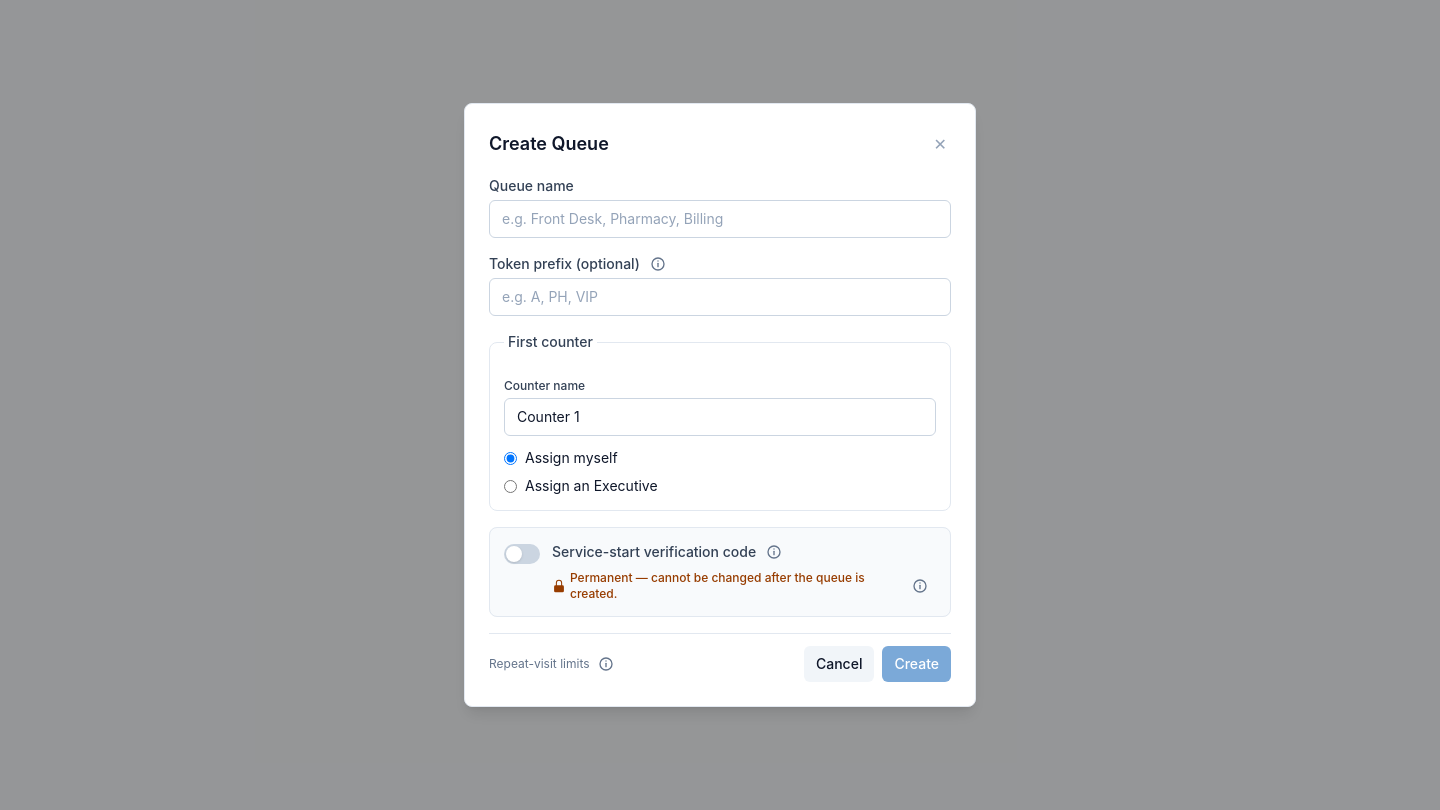
Test: Create Queue — first counter (ADR-069) › with no Executives, says so and offers Invite Executive or Assign Myself
Click the radio button labelled "Assign an Executive" at (510, 486), box [504,480,517,492]
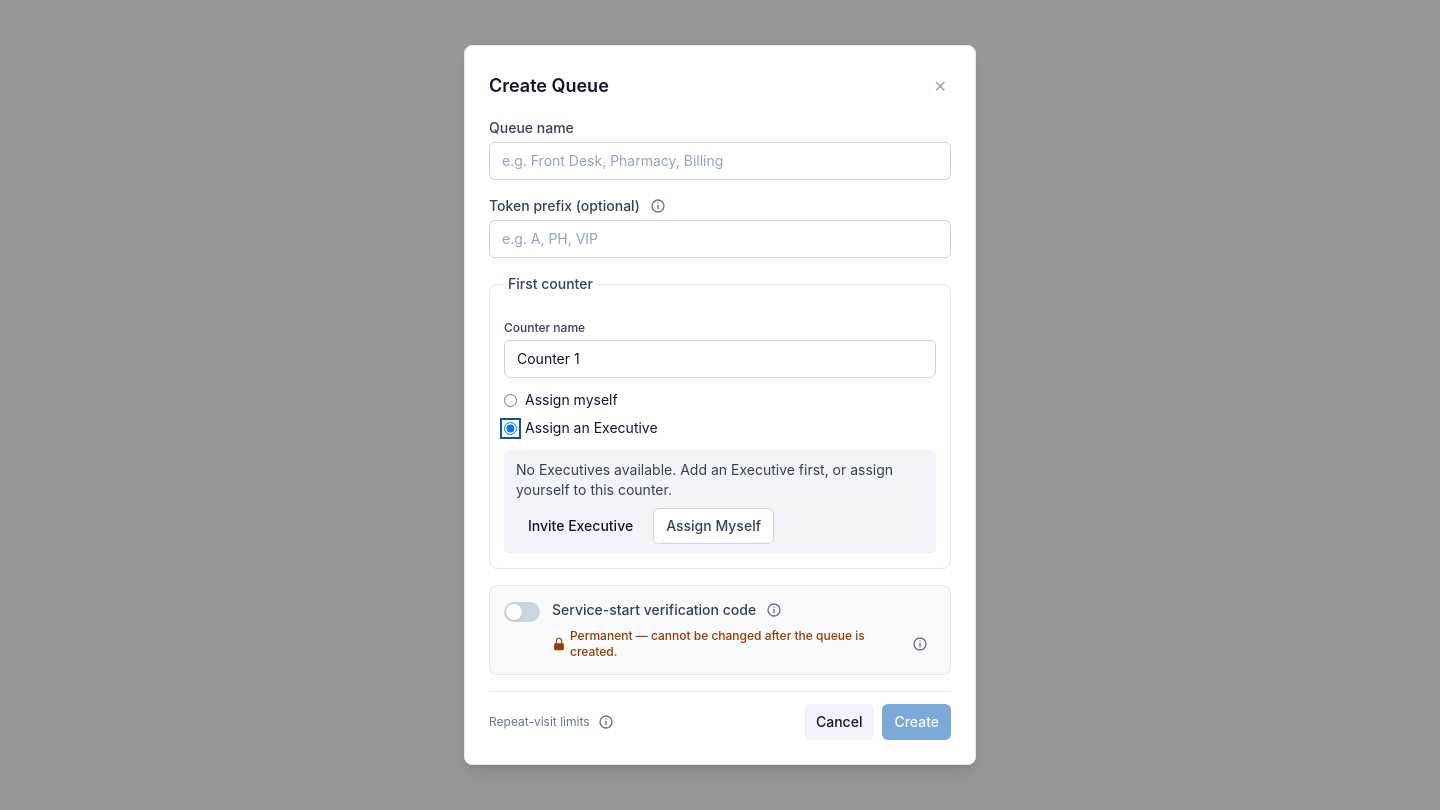
expect the text "No Executives available. Add an Executive first, or assign yourself to this counter." is shown: met, box [516,461,893,498]
expect the button "Invite Executive" is shown: met, box [516,508,645,544]
Click the button "Assign Myself" at (714, 526), box [653,508,774,544]
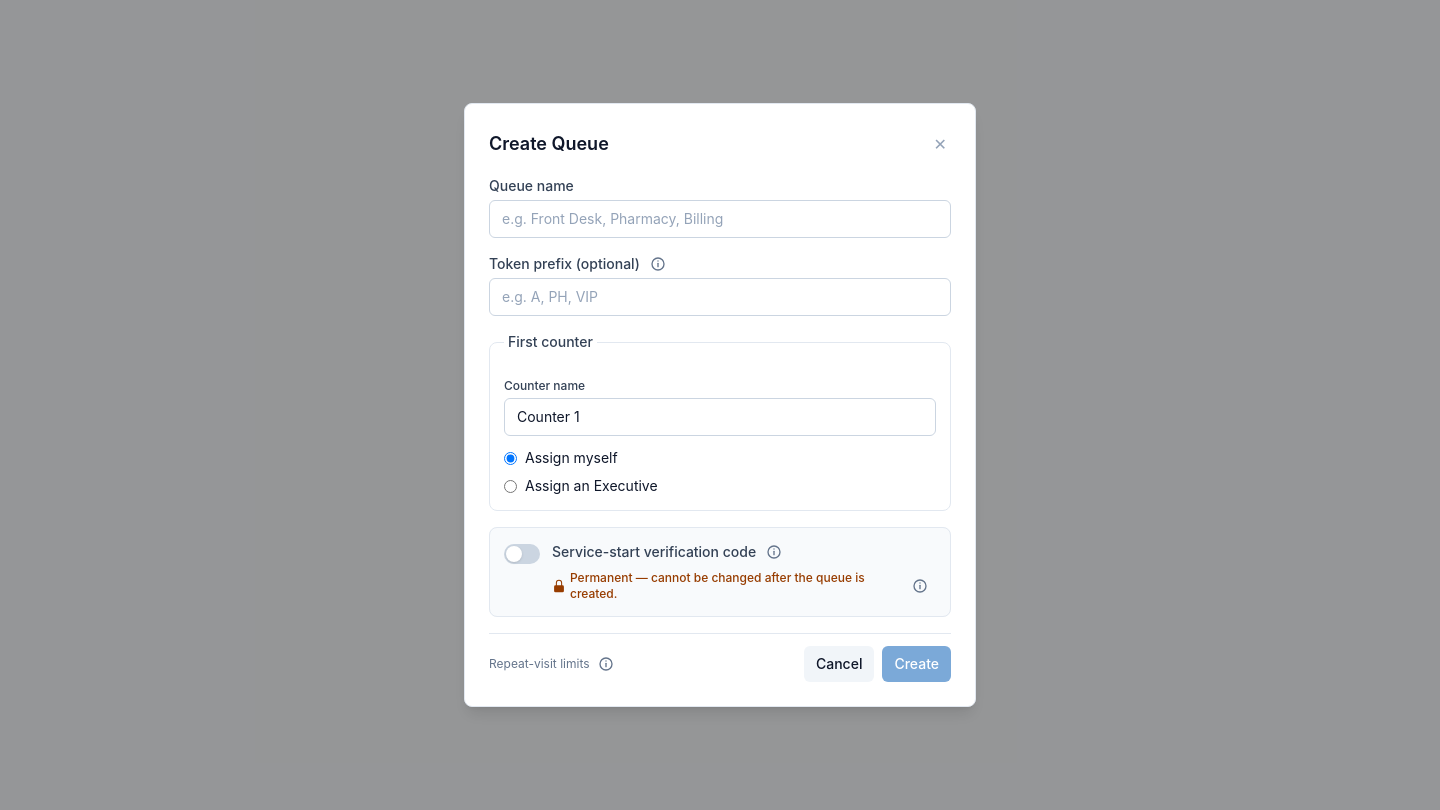
expect the radio button labelled "Assign myself" is checked: met, box [504,452,517,464]
